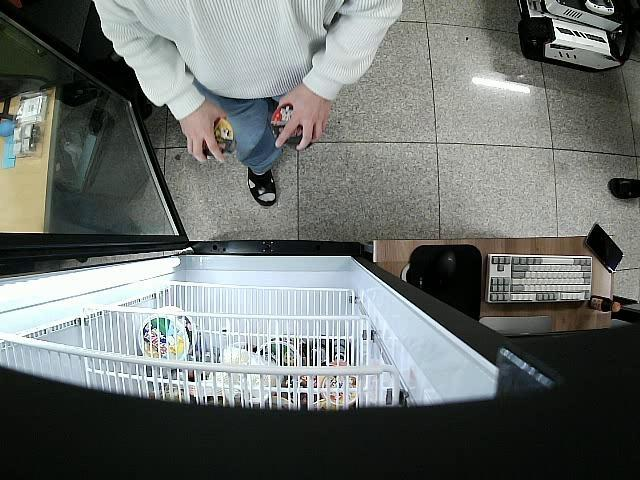08_buldak_S: (268, 100, 318, 150), (202, 119, 238, 158)
